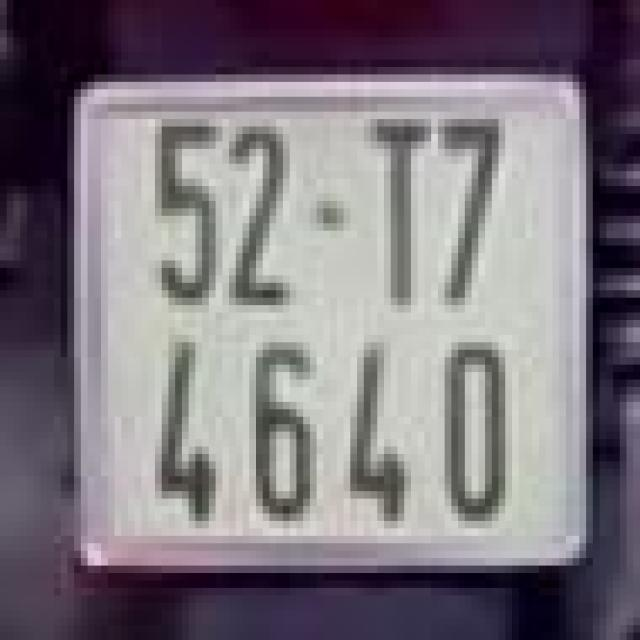0: (438, 328, 512, 544)
2: (229, 119, 303, 320)
4: (344, 320, 424, 543), (152, 327, 226, 551)
5: (148, 111, 222, 328)
6: (232, 323, 327, 540)
7: (434, 97, 508, 305)
T: (364, 100, 431, 324)
